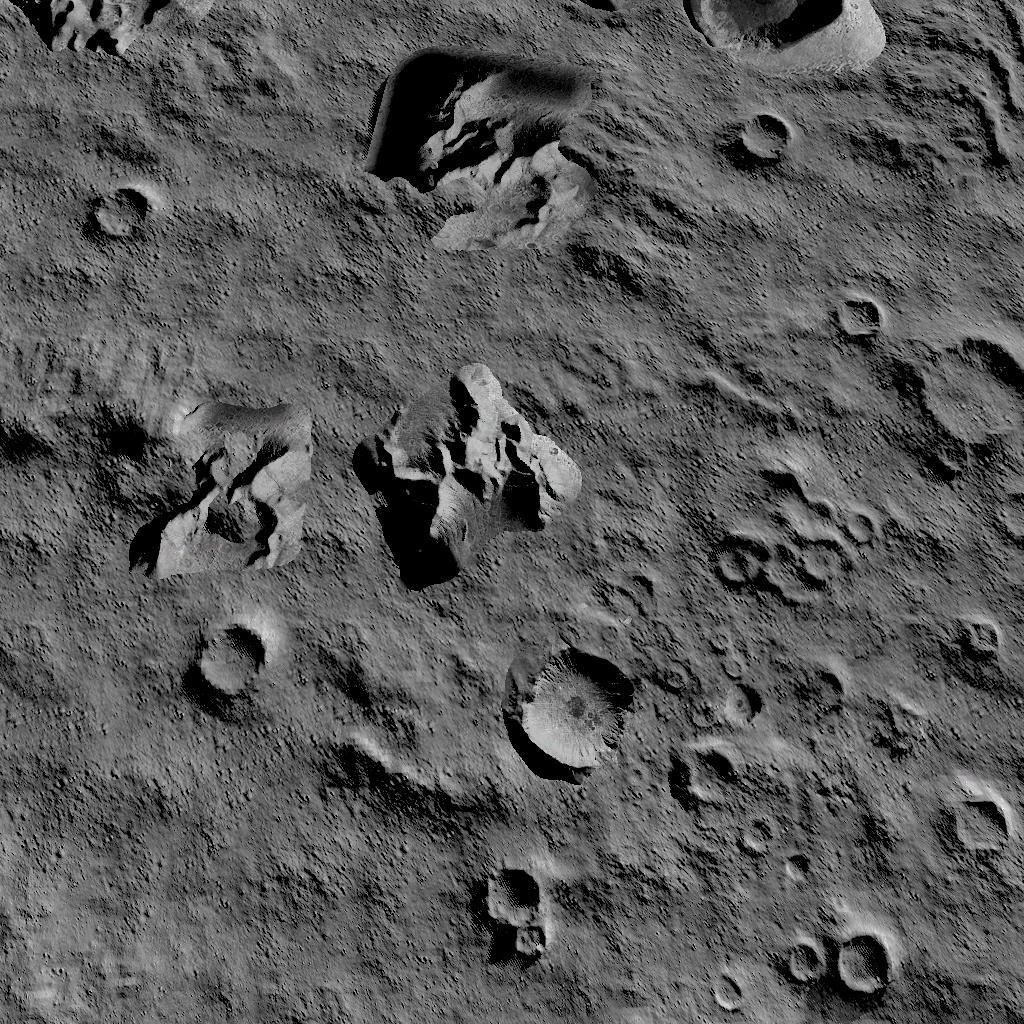Boulders: (8, 340, 320, 592), (345, 362, 590, 600), (362, 56, 620, 277), (0, 0, 296, 133), (324, 726, 476, 839), (558, 0, 648, 47)
Crater: (691, 442, 878, 622), (492, 636, 642, 799), (666, 0, 882, 101), (901, 330, 1024, 480), (174, 614, 288, 730), (764, 924, 896, 1018), (466, 854, 556, 982), (924, 786, 1016, 882), (71, 186, 174, 256), (708, 114, 794, 188), (663, 740, 737, 826), (820, 296, 882, 356), (710, 684, 772, 740), (948, 616, 1002, 676), (981, 494, 1024, 558)
Plan surface: (2, 608, 162, 1024), (174, 848, 452, 1024), (172, 738, 308, 839)
